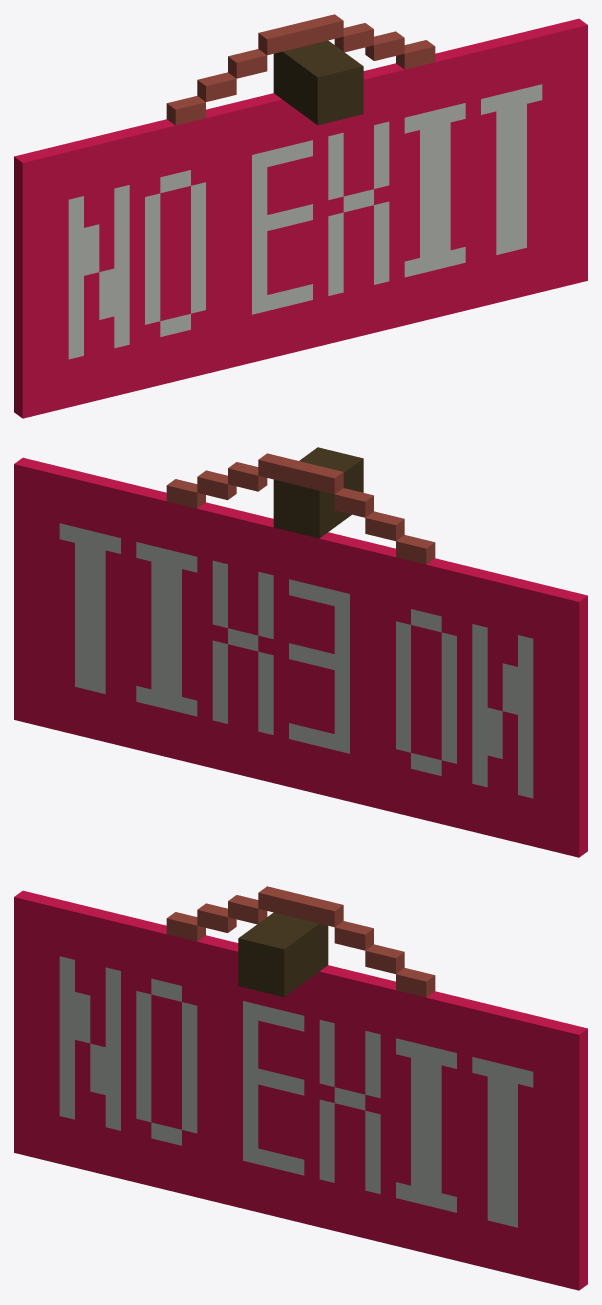
The model's file is sign.glb.
The picture shows the model from 3 angles, top to bottom: view 1: azimuth 30°, elevation 25°; view 2: azimuth 150°, elevation 25°; view 3: azimuth 330°, elevation 25°; orthographic projection.
Visible parts, largest first — view 1: Untitled; view 2: Untitled; view 3: Untitled.
Part boxes in pixels (box(x1,y1,x2,y2)): Untitled: box(14, 14, 587, 418); Untitled: box(14, 447, 587, 857); Untitled: box(14, 886, 587, 1290).
Bounding box in the file's own units: 3.7 × 2 × 0.5.
1 material, 1 textured.
